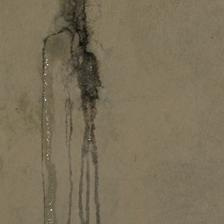Crack: (0, 0, 105, 88), (0, 29, 79, 79)
